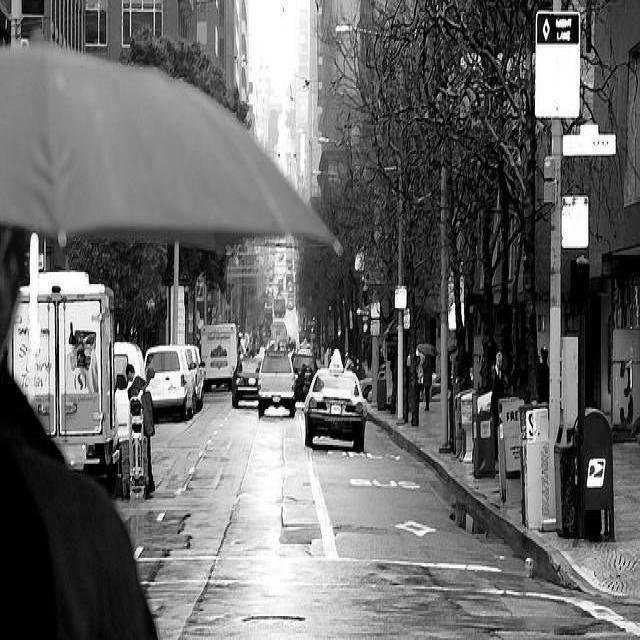vehicle: (4, 236, 149, 490), (304, 361, 367, 453), (144, 346, 197, 424), (199, 323, 241, 395), (256, 349, 296, 419), (257, 351, 295, 418), (232, 358, 264, 408), (114, 341, 147, 387), (291, 353, 318, 401), (183, 344, 205, 396), (296, 346, 312, 355)
